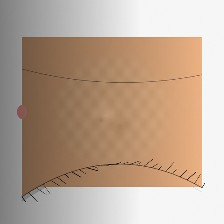pinguecula_lesion: (44, 96, 89, 131)
